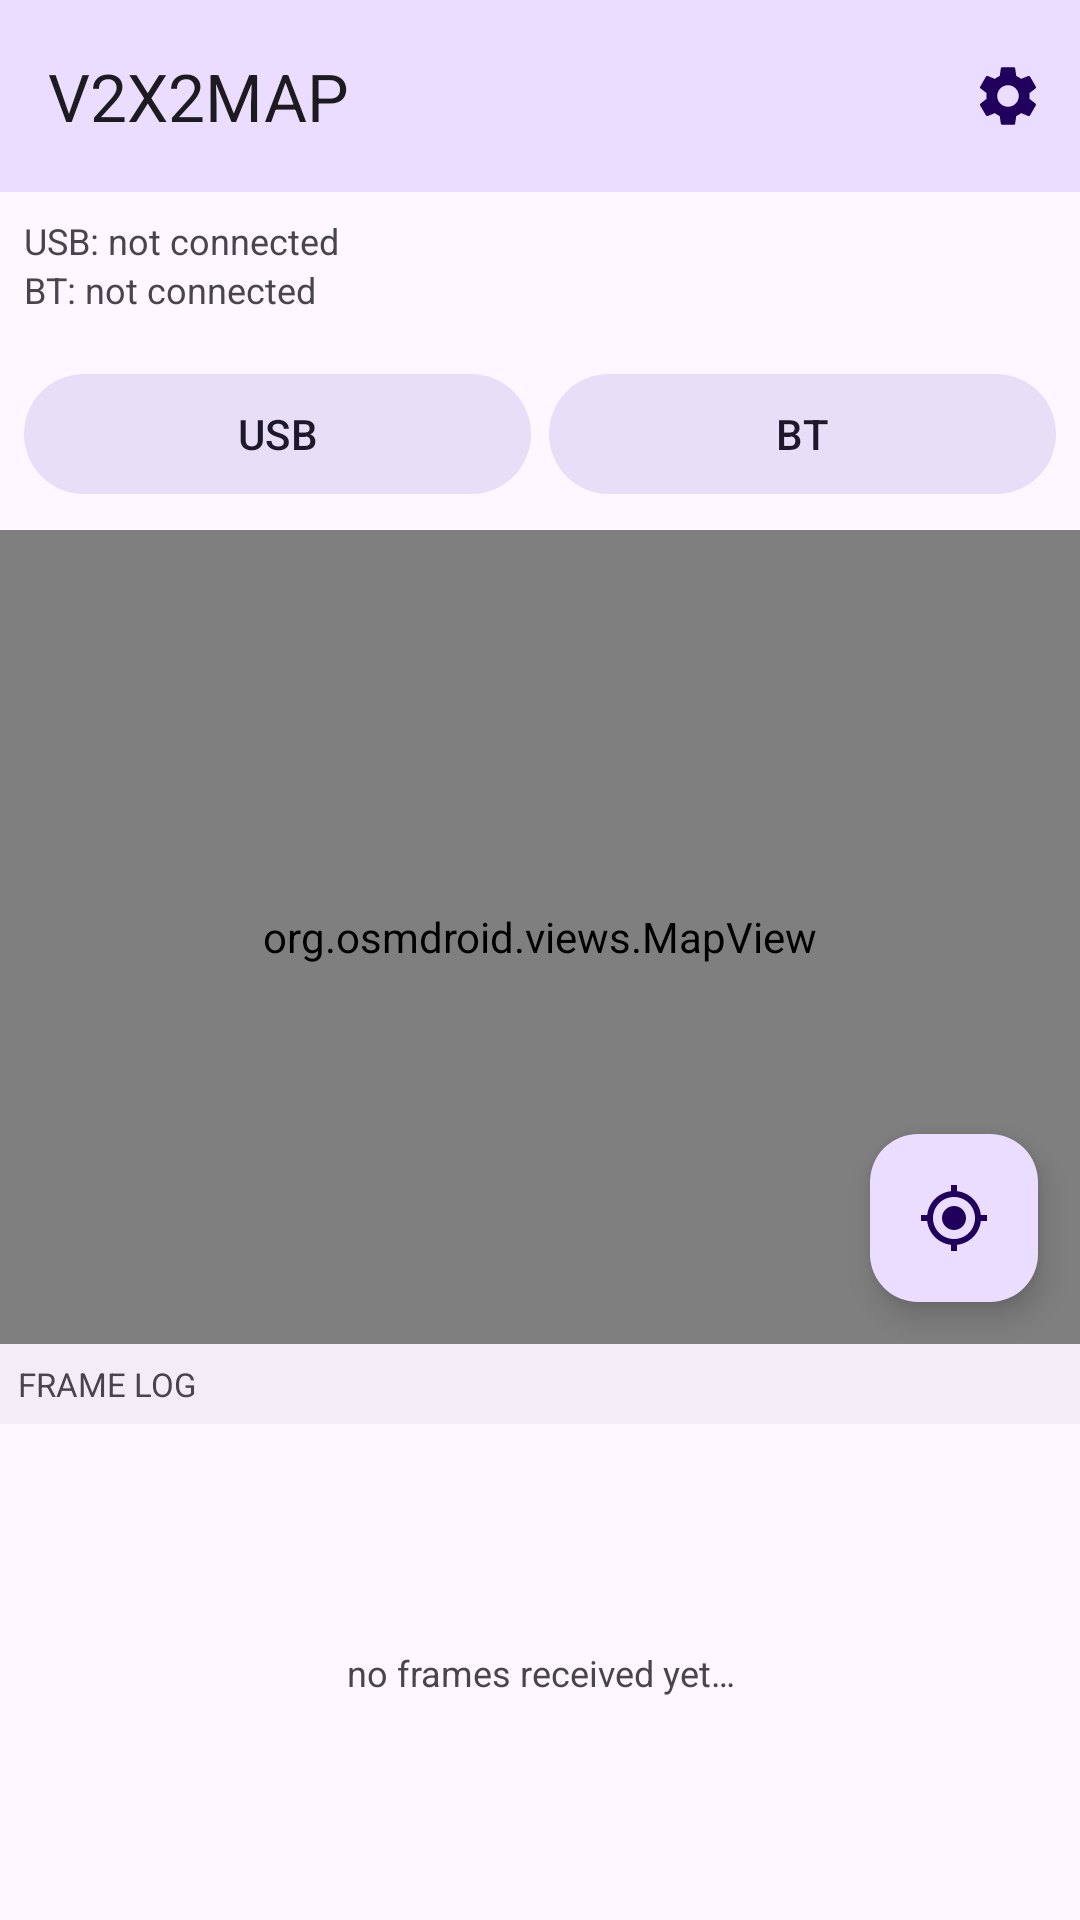

Icon click points for this 1080 x 1920 phone screenshot, format (x,y):
Locate: (954,1218)
